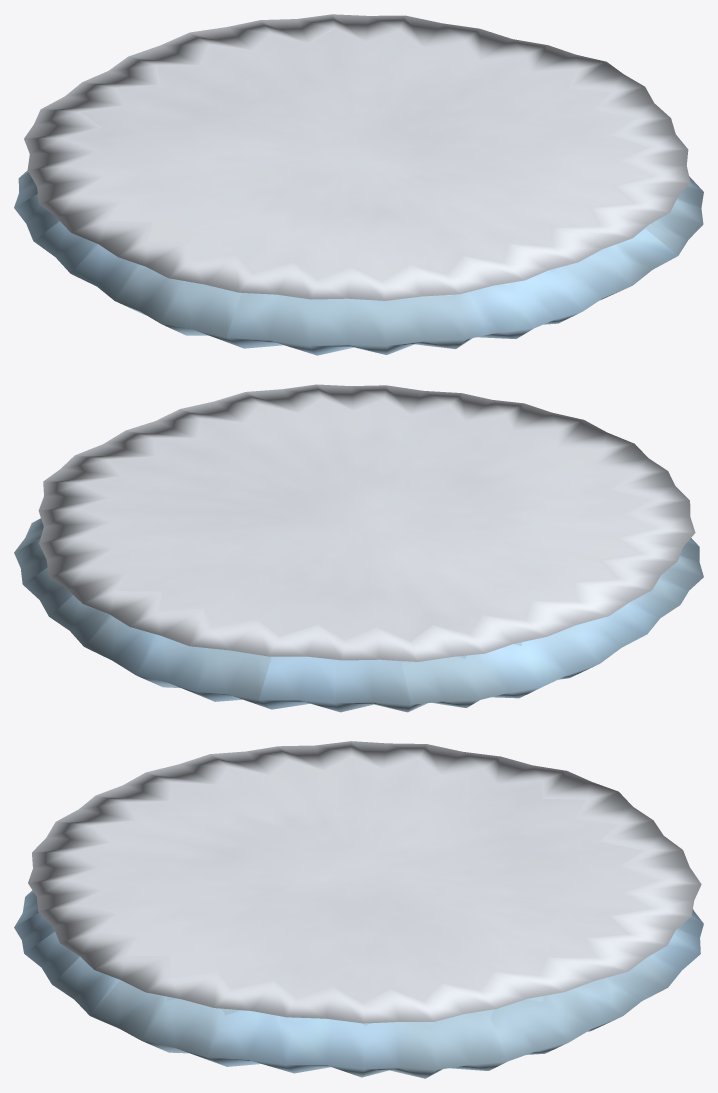
The model's file is ice_floe_s.fbx.
3 views of the same model, one above another, from view 1: azimuth 30°, elevation 25°; view 2: azimuth 150°, elevation 25°; view 3: azimuth 270°, elevation 25° (orthographic).
Visible parts, largest first — view 1: ice_floe_s; view 2: ice_floe_s; view 3: ice_floe_s.
Part boxes in pixels (x1,y1,x2,y2): ice_floe_s: [14, 14, 703, 355]; ice_floe_s: [14, 384, 703, 712]; ice_floe_s: [14, 741, 703, 1078].
Bounding box in the file's own units: 297 × 47.89 × 303.
